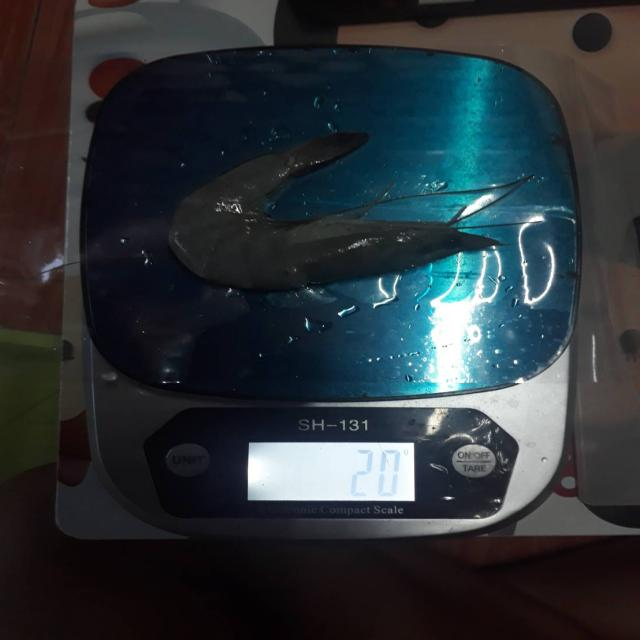0: (378, 448, 400, 498)
2: (352, 448, 374, 498)
screen: (247, 438, 418, 503)
